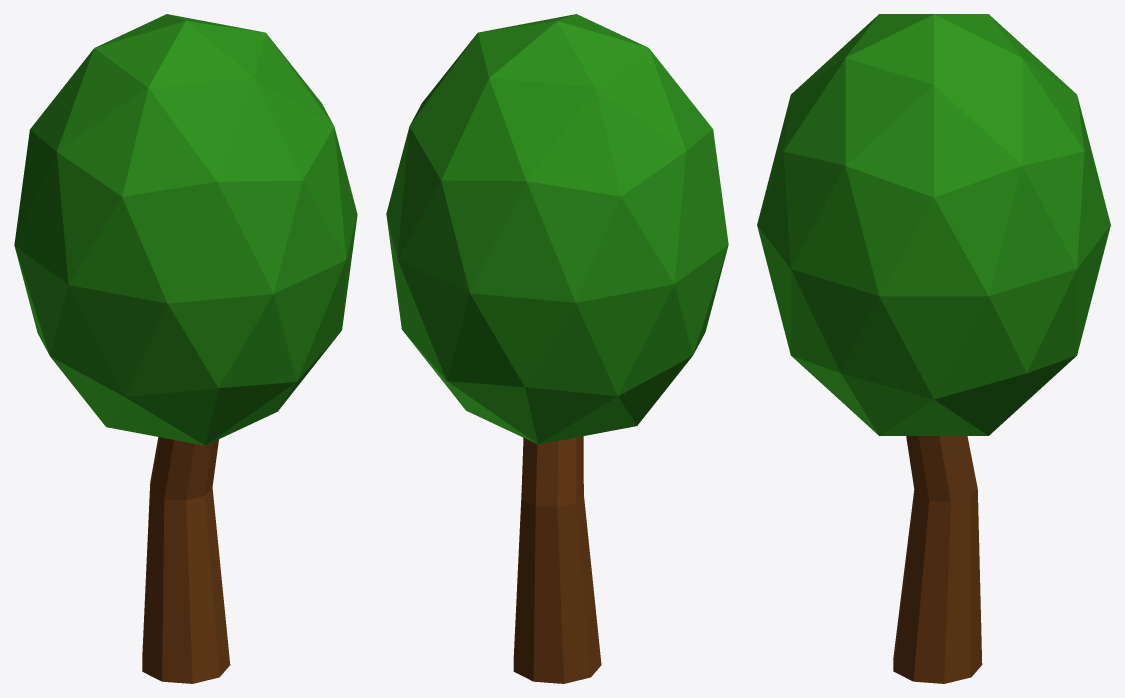
Rendered from Tree.fbx.
3 views of the same model, side by side, from view 1: azimuth 30°, elevation 25°; view 2: azimuth 150°, elevation 25°; view 3: azimuth 270°, elevation 25° (orthographic).
Visible parts, largest first — view 1: Icosphere; view 2: Icosphere; view 3: Icosphere.
Part boxes in pixels (<box>): Icosphere: <box>14,14,357,683</box>; Icosphere: <box>386,14,728,683</box>; Icosphere: <box>757,14,1110,683</box>.
Bounding box in the file's own units: 820 × 1749 × 862.
